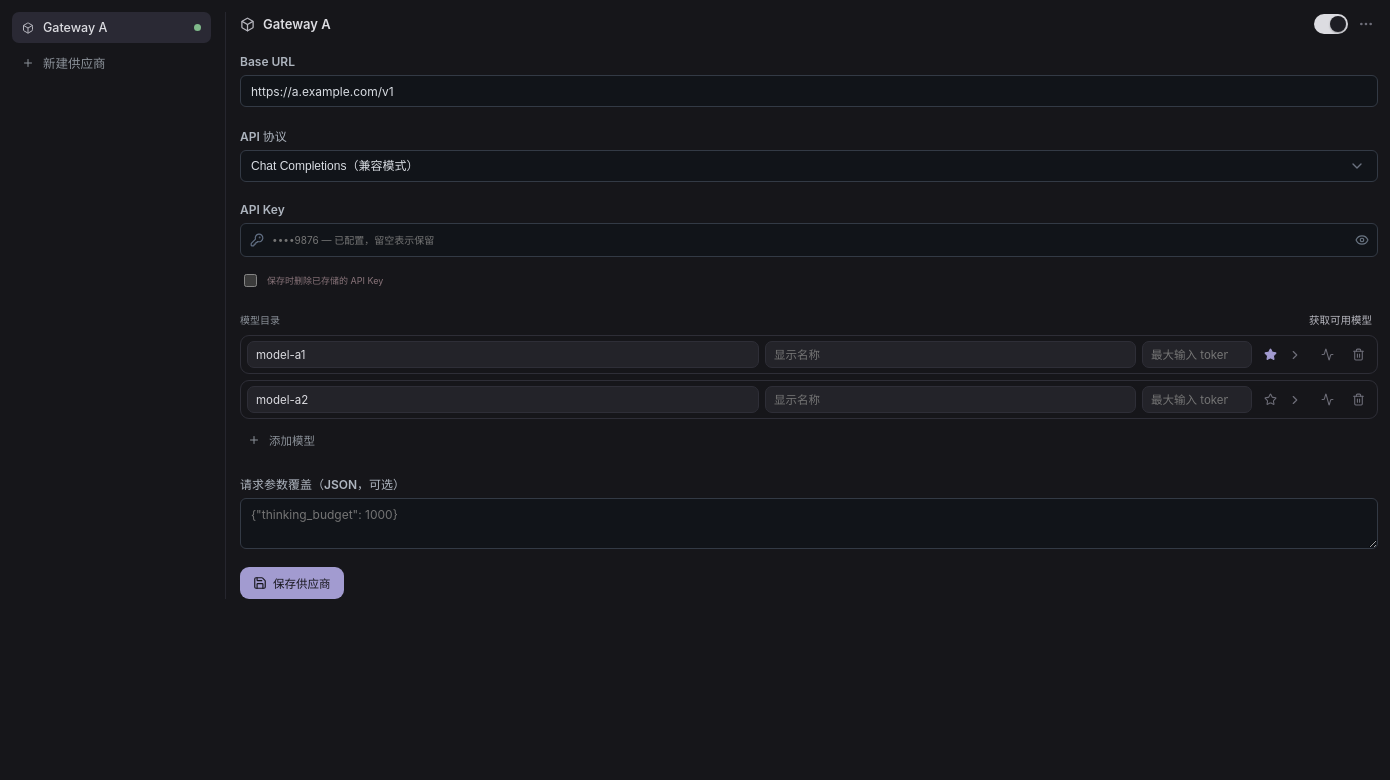
ProviderManager › tests one model from its row with that model id and shows the result under it
The width and height of the screenshot is (1390, 780).
Check: the button named "更多操作" is shown, box [1354,12,1378,36]
// 每行一颗测试键（在展开键与删除键之间），行内测试点名该模型。
Click the button named "测试连接: model-a2": (1327,400) [1314,386,1340,412]
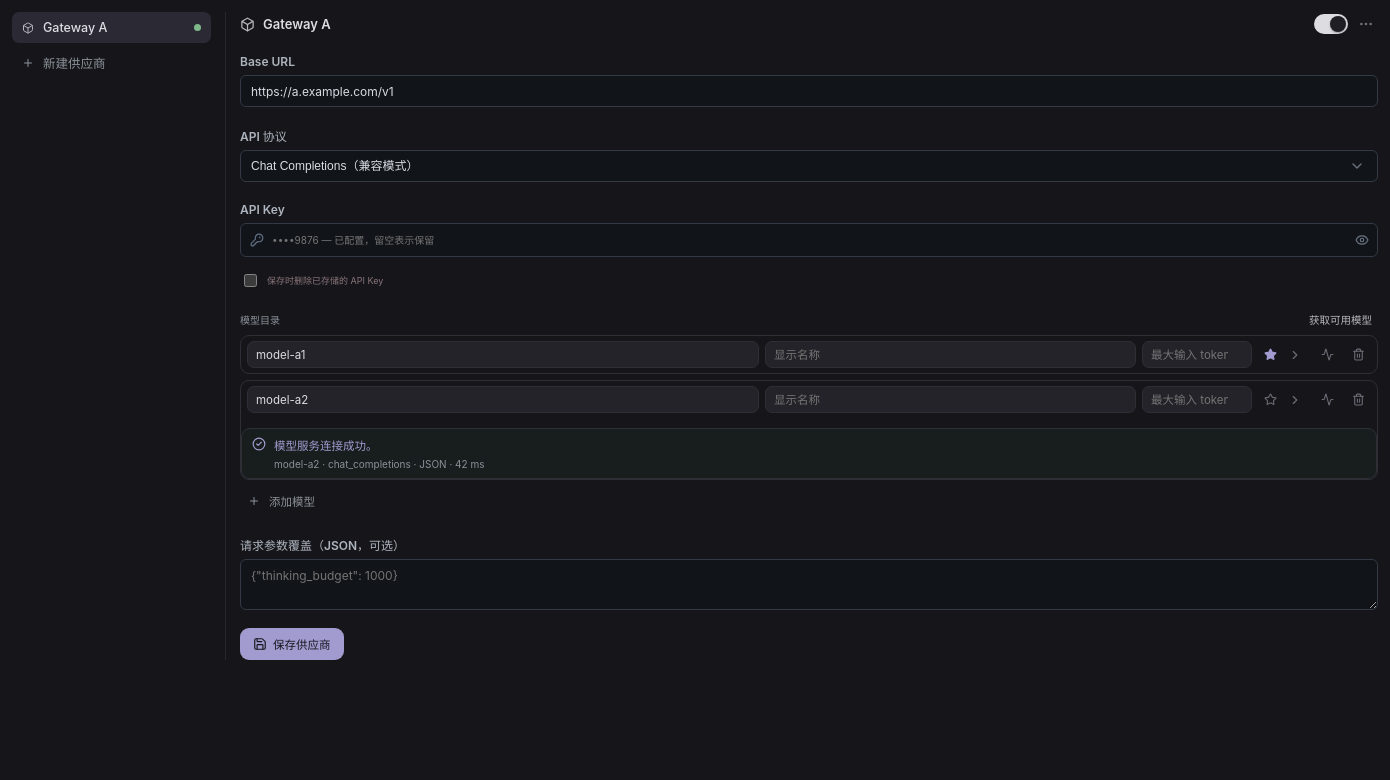
Check: the text "模型服务连接成功。" is shown, box [274,439,378,453]
